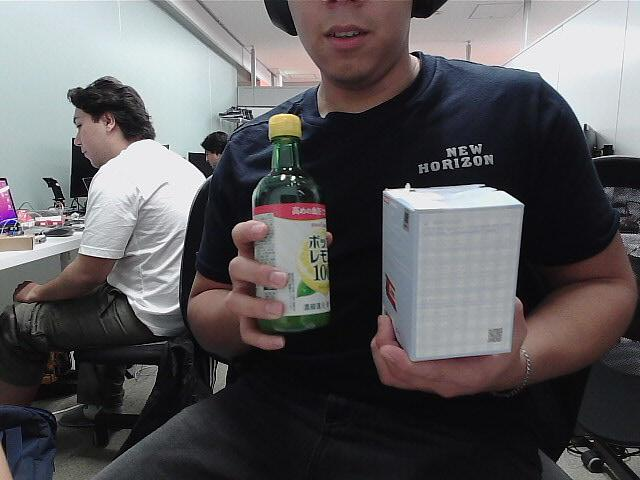Blind_box: (374, 173, 526, 369)
Lemon_sapporo: (236, 105, 352, 351)
